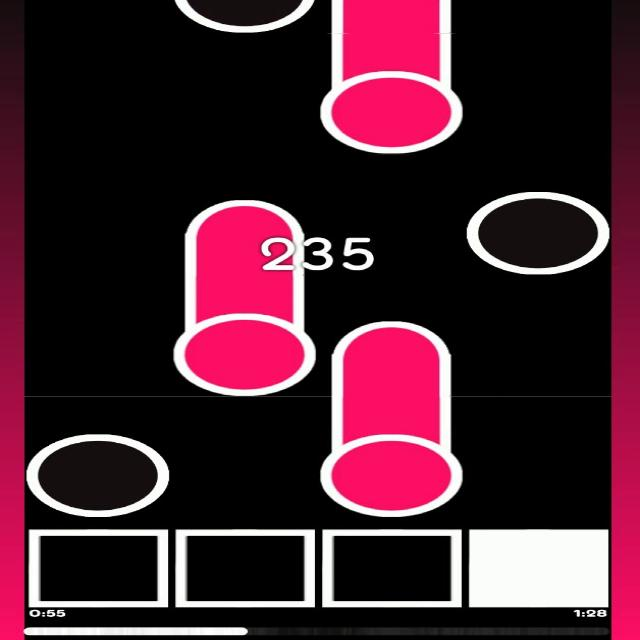end_hold: (181, 194, 311, 242), (331, 314, 456, 362)
note: (466, 188, 609, 277), (28, 431, 168, 519), (178, 0, 318, 33)
start_hold: (316, 56, 471, 157), (313, 421, 469, 520), (173, 301, 316, 401)
